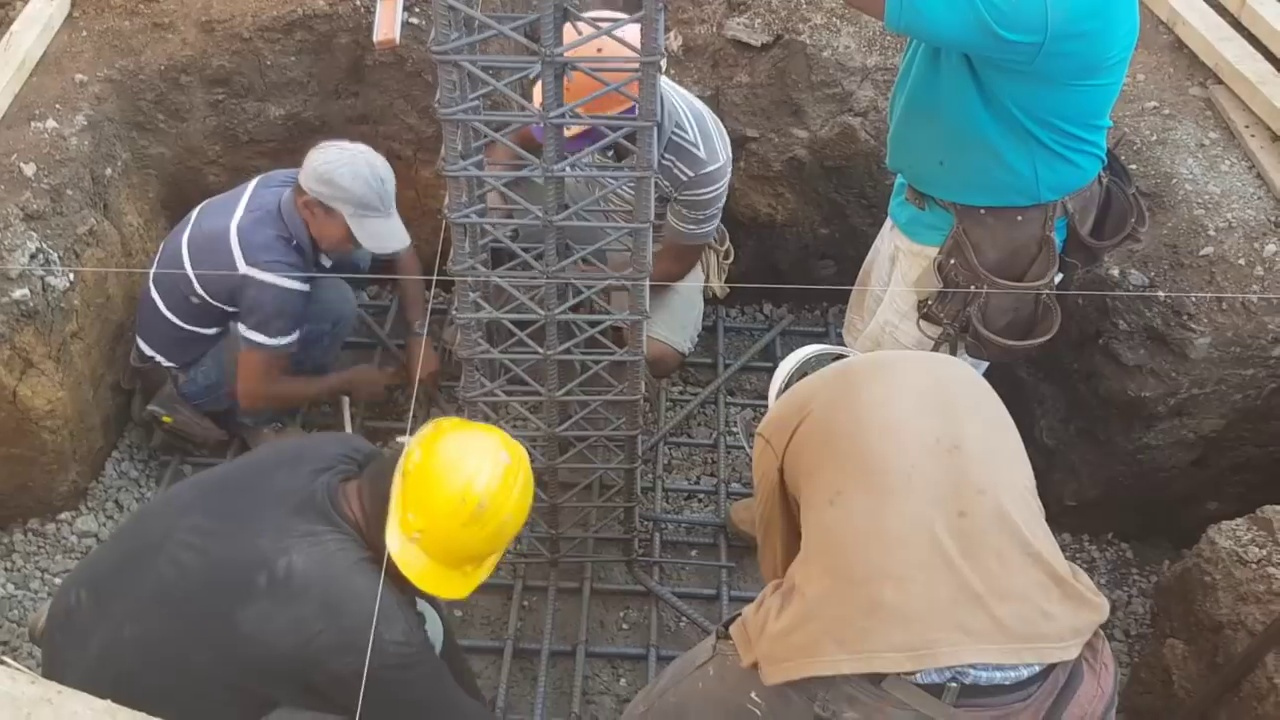helmet: (386, 412, 534, 606), (532, 10, 668, 138), (766, 342, 863, 404)
helmet-off: (297, 143, 414, 273)
helmet-on: (324, 416, 532, 608), (505, 0, 660, 170), (764, 339, 870, 423)
person: (650, 342, 1116, 720), (26, 403, 556, 707), (841, 6, 1145, 391), (489, 0, 729, 425), (140, 138, 427, 440)
